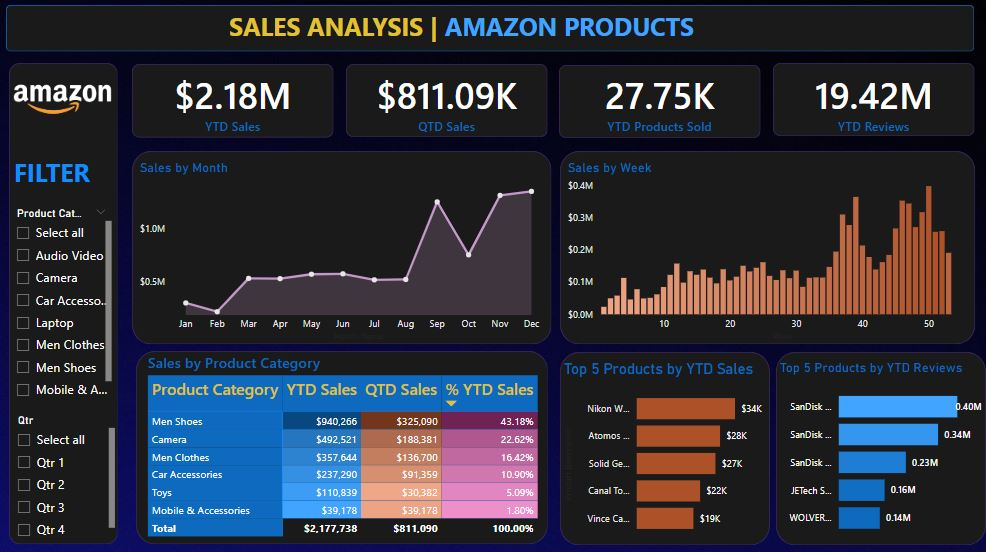

The page's visual inventory and layout, read from the dashboard file:
{"tool":"powerbi","page":{"name":"DASHBOARD","canvas":[1280,720],"ordinal":0},"visuals":[{"type":"shape","box":[15.3,11.5,1249.4,59.9],"z":0},{"type":"textbox","box":[289.4,11.5,628.5,67.6],"z":1000},{"type":"shape","box":[19.1,86.7,140.2,620.9],"z":2000},{"type":"shape","box":[178.5,88,260,95],"z":3000,"group":"g1"},{"type":"shape","box":[453.9,88,260.1,94.3],"z":3000},{"type":"card","fields":{"Values":["Amazon_Data.YTD Sales"]},"box":[178.5,89.3,260.1,95.6],"z":4000,"group":"g1"},{"type":"shape","box":[729.2,89.2,260.1,94.3],"z":4000},{"type":"shape","box":[1004.6,86.7,260.1,94.3],"z":5000},{"type":"card","fields":{"Values":["Amazon_Data.QTD Sales"]},"box":[453.9,89.2,260.1,95.6],"z":6000},{"type":"card","fields":{"Values":["Amazon_Data.YTD Products Sold"]},"box":[729.2,89.2,260.1,95.6],"z":7000},{"type":"card","fields":{"Values":["Amazon_Data.YTD Reviews"]},"box":[1004.6,89.2,260.1,95.6],"z":8000},{"type":"group","id":"g1","title":"Group 2","box":[178.5,88,260.1,96.9],"z":9000},{"type":"shape","box":[178.6,199.8,541.4,249.4],"z":10000},{"type":"areaChart","title":"Sales by Month","fields":{"Category":["Custom_Date.Month_Name"],"Y":["Sum(Amazon_Data.Price(Dollar))"]},"box":[182.8,211.2,531.5,238.1],"z":11000},{"type":"shape","box":[729.9,199.8,535.7,249.4],"z":12000},{"type":"columnChart","title":"Sales by Week","fields":{"Category":["Custom_Date.Week"],"Y":["Sum(Amazon_Data.Price(Dollar))"]},"box":[735.6,211.2,525.8,238.1],"z":13000},{"type":"shape","box":[182.8,457.8,531.5,249.4],"z":14000},{"type":"pivotTable","title":"Sales by Product Category","fields":{"Rows":["Amazon_Data.Product Category"],"Values":["Amazon_Data.YTD Sales","Amazon_Data.QTD Sales","Divide(Amazon_Data.YTD Sales, ScopedEval(Amazon_Data.YTD Sales, []))"]},"box":[194.2,459.2,515.9,243.8],"z":15000},{"type":"shape","box":[729.9,459.2,270.7,249.4],"z":16000},{"type":"shape","box":[1009.1,459.2,270.7,249.4],"z":17000},{"type":"clusteredBarChart","title":"Top 5 Products by YTD Sales","fields":{"Y":["Amazon_Data.YTD Sales"],"Category":["Amazon_Data.Product Description"]},"box":[729.9,469.1,275,238.1],"z":18000},{"type":"clusteredBarChart","title":"Top 5 Products by YTD Reviews","fields":{"Category":["Amazon_Data.Product Description"],"Y":["Amazon_Data.YTD Reviews"]},"box":[1009.1,469.1,270.7,238.1],"z":19000},{"type":"slicer","fields":{"Values":["Amazon_Data.Product Category"]},"box":[17,266.5,140.3,260.8],"z":20000},{"type":"slicer","fields":{"Values":["Custom_Date.Qtr"]},"box":[18.4,534.3,143.1,168.7],"z":21000},{"type":"image","box":[21.3,89.3,137.5,96.4],"z":22000},{"type":"textbox","box":[21.3,199.8,137.5,55.3],"z":23000}]}

Visuals, with their boxes in screenshot pixels (x1, y1, x2, y2), scaled from the page's 1280x720 canvas onto the 986x552 screenshot:
shape: left=12, top=9, right=974, bottom=55
textbox: left=223, top=9, right=707, bottom=61
shape: left=15, top=66, right=123, bottom=542
shape: left=138, top=67, right=338, bottom=140
shape: left=350, top=67, right=550, bottom=140
card - Amazon_Data.YTD Sales: left=138, top=68, right=338, bottom=142
shape: left=562, top=68, right=762, bottom=141
shape: left=774, top=66, right=974, bottom=139
card - Amazon_Data.QTD Sales: left=350, top=68, right=550, bottom=142
card - Amazon_Data.YTD Products Sold: left=562, top=68, right=762, bottom=142
card - Amazon_Data.YTD Reviews: left=774, top=68, right=974, bottom=142
"Group 2" group: left=138, top=67, right=338, bottom=142
shape: left=138, top=153, right=555, bottom=344
"Sales by Month" areaChart: left=141, top=162, right=550, bottom=344
shape: left=562, top=153, right=975, bottom=344
"Sales by Week" columnChart: left=567, top=162, right=972, bottom=344
shape: left=141, top=351, right=550, bottom=542
"Sales by Product Category" pivotTable: left=150, top=352, right=547, bottom=539
shape: left=562, top=352, right=771, bottom=543
shape: left=777, top=352, right=985, bottom=543
"Top 5 Products by YTD Sales" clusteredBarChart: left=562, top=360, right=774, bottom=542
"Top 5 Products by YTD Reviews" clusteredBarChart: left=777, top=360, right=985, bottom=542
slicer - Amazon_Data.Product Category: left=13, top=204, right=121, bottom=404
slicer - Custom_Date.Qtr: left=14, top=410, right=124, bottom=539
image: left=16, top=68, right=122, bottom=142
textbox: left=16, top=153, right=122, bottom=196
